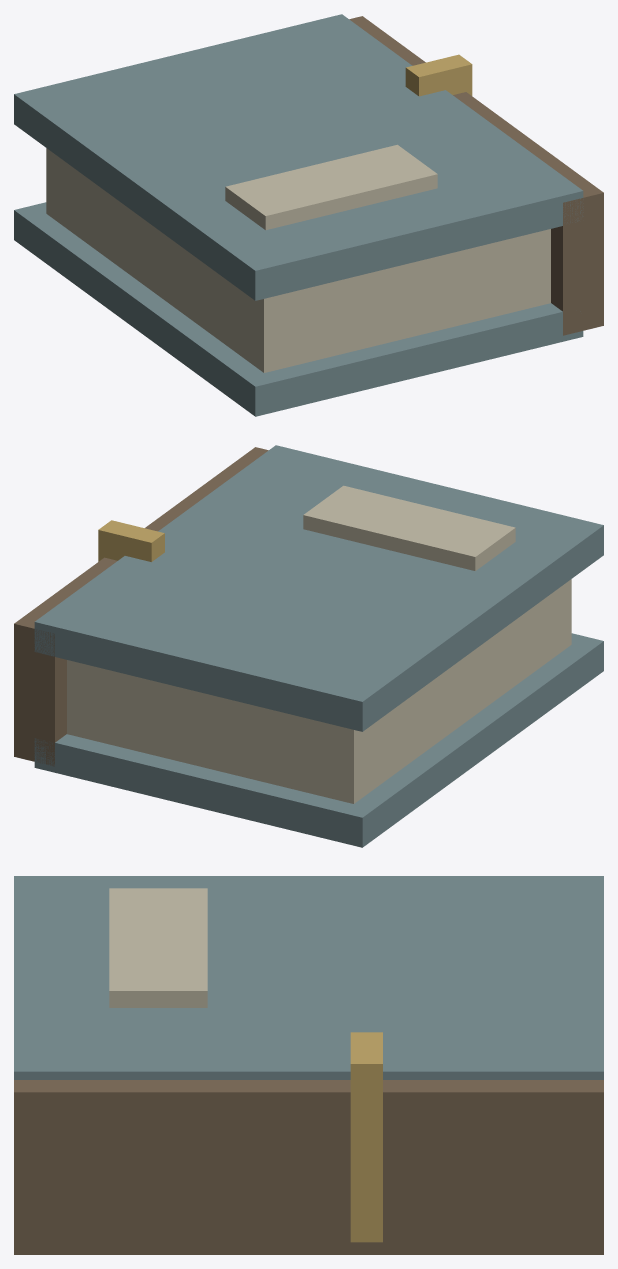
The model's file is spread-portable-codex02.fbx.
3 renders of one model, top to bottom at view 1: azimuth 30°, elevation 25°; view 2: azimuth 150°, elevation 25°; view 3: azimuth 270°, elevation 25°, orthographic. The views are drawn at different scales.
Visible parts, largest first — view 1: spread-portable-codex02__Geometry; view 2: spread-portable-codex02__Geometry; view 3: spread-portable-codex02__Geometry.
Boxes of the visible parts, x1,y1,x2,y2 form: spread-portable-codex02__Geometry: (14, 14, 603, 416); spread-portable-codex02__Geometry: (14, 445, 603, 847); spread-portable-codex02__Geometry: (14, 876, 603, 1254).
Size of the model in its own units: 0.4325 by 0.1925 by 0.51.
